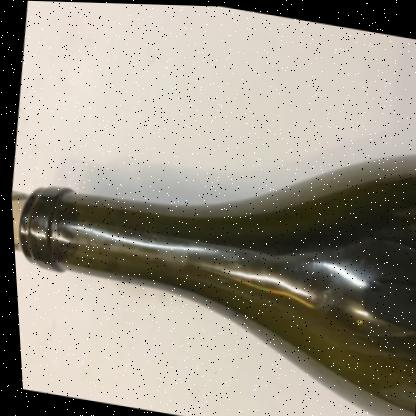Glass: (9, 154, 416, 410)
